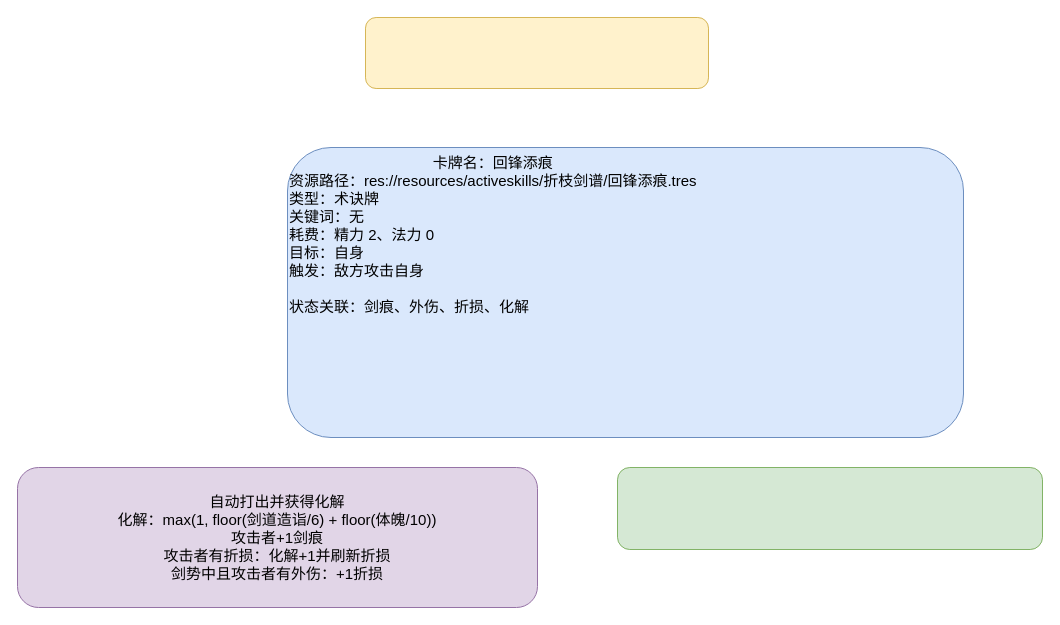
Image size: 1060x625. Some labels were removed from this diagram. The box of each missing label's shape, as (x1, y1, x2, y2) in pixels:
回锋添痕 折枝剑谱 / 裂柯卷 / 主修习得*1: (364, 16, 708, 88)
定位：在敌方回合重新施加剑痕 守中回锋，重新添痕 避免摧枝一剑结算后无痕可用，并让较高体魄提高化解伤害的能力: (616, 466, 1042, 550)
